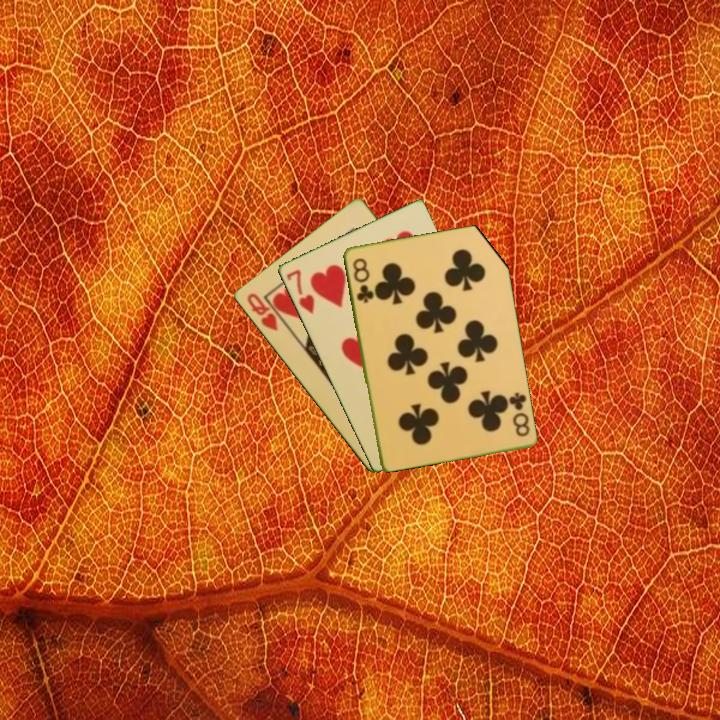7h: (282, 266, 317, 317)
8c: (349, 254, 376, 306), (505, 389, 532, 439)
Qh: (243, 289, 280, 334)
